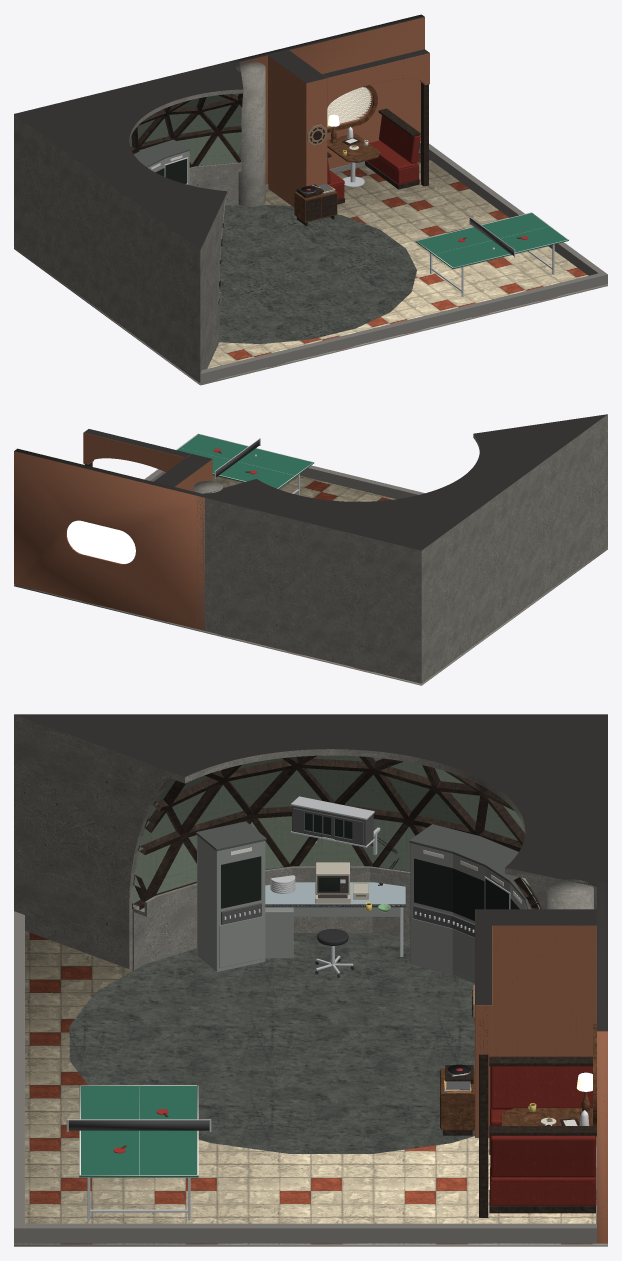
File: room.glb
3 views of the same model, one above another, from view 1: azimuth 30°, elevation 25°; view 2: azimuth 150°, elevation 25°; view 3: azimuth 270°, elevation 25° (orthographic). The views are drawn at different scales.
Visible parts, largest first — view 1: left_poche_ext, dome_floor, floor, back_wall, back_pier, kerb_front_ext, pp_top, column_back, left_poche, left_dome_struts, left_dome_panels, back_header (+15 smaller); view 2: left_poche_ext, back_wall_ext, pp_top, window_light, floor, back_header, subfloor_ext, kerb_front, back_pier_ext, back_header_ext, back_pier, kerb_front_ext; view 3: dome_floor, floor, left_poche_ext, left_poche, left_dome_struts, left_dome_panels, back_pier, kerb_right_ext, pp_top, left_dome_riser, bench_kate_back, cab5_body (+32 smaller).
Boxes of the visible parts, bbox=[...] form: left_poche_ext: bbox=[14, 59, 243, 382]; dome_floor: bbox=[219, 204, 416, 343]; floor: bbox=[22, 152, 606, 383]; back_wall: bbox=[239, 17, 424, 184]; back_pier: bbox=[268, 55, 327, 207]; kerb_front_ext: bbox=[197, 272, 607, 383]; pp_top: bbox=[415, 213, 568, 268]; column_back: bbox=[236, 61, 265, 206]; left_poche: bbox=[129, 89, 243, 373]; left_dome_struts: bbox=[130, 93, 242, 304]; left_dome_panels: bbox=[129, 93, 241, 300]; back_header: bbox=[323, 53, 429, 108]; left_poche_ext: bbox=[196, 414, 607, 683]; back_wall_ext: bbox=[14, 448, 208, 630]; pp_top: bbox=[177, 434, 314, 489]; window_light: bbox=[67, 520, 135, 563]; floor: bbox=[15, 475, 598, 683]; back_header: bbox=[83, 432, 190, 472]; subfloor_ext: bbox=[14, 548, 607, 685]; kerb_front: bbox=[300, 468, 417, 498]; back_pier_ext: bbox=[153, 454, 212, 486]; back_header_ext: bbox=[84, 429, 190, 457]; back_pier: bbox=[175, 459, 212, 491]; kerb_front_ext: bbox=[308, 465, 607, 548]; dome_floor: bbox=[69, 933, 474, 1153]; floor: bbox=[15, 931, 606, 1244]; left_poche_ext: bbox=[15, 714, 607, 889]; left_poche: bbox=[14, 714, 596, 968]; left_dome_struts: bbox=[132, 755, 541, 909]; left_dome_panels: bbox=[132, 755, 539, 909]; back_pier: bbox=[475, 909, 596, 1137]; kerb_right_ext: bbox=[25, 1223, 596, 1243]; pp_top: bbox=[79, 1086, 198, 1177]; left_dome_riser: bbox=[132, 881, 410, 970]; bench_kate_back: bbox=[490, 1135, 595, 1177]; cab5_body: bbox=[197, 835, 265, 972].
Bounding box in the file's own units: 9.6 × 3.04 × 7.6.
Materials: 47 (10 with a texture image).
